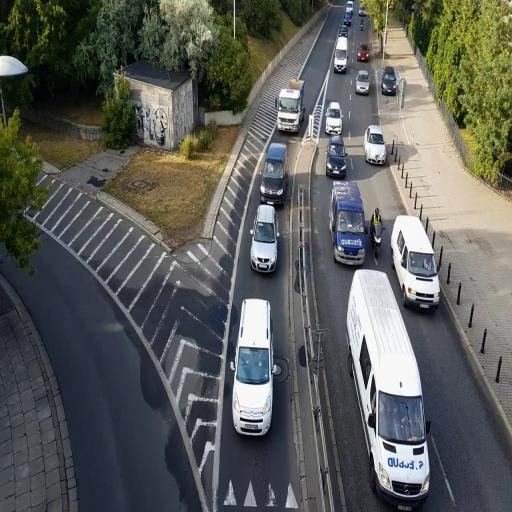vehicle: (346, 268, 432, 508), (345, 268, 431, 508), (231, 298, 274, 437), (390, 214, 441, 313), (328, 180, 366, 266), (250, 204, 278, 276), (260, 143, 288, 207), (260, 143, 287, 208), (276, 79, 306, 136), (326, 137, 348, 179), (364, 125, 387, 165), (324, 101, 342, 136), (381, 68, 398, 96), (355, 68, 370, 94), (343, 3, 353, 29)
